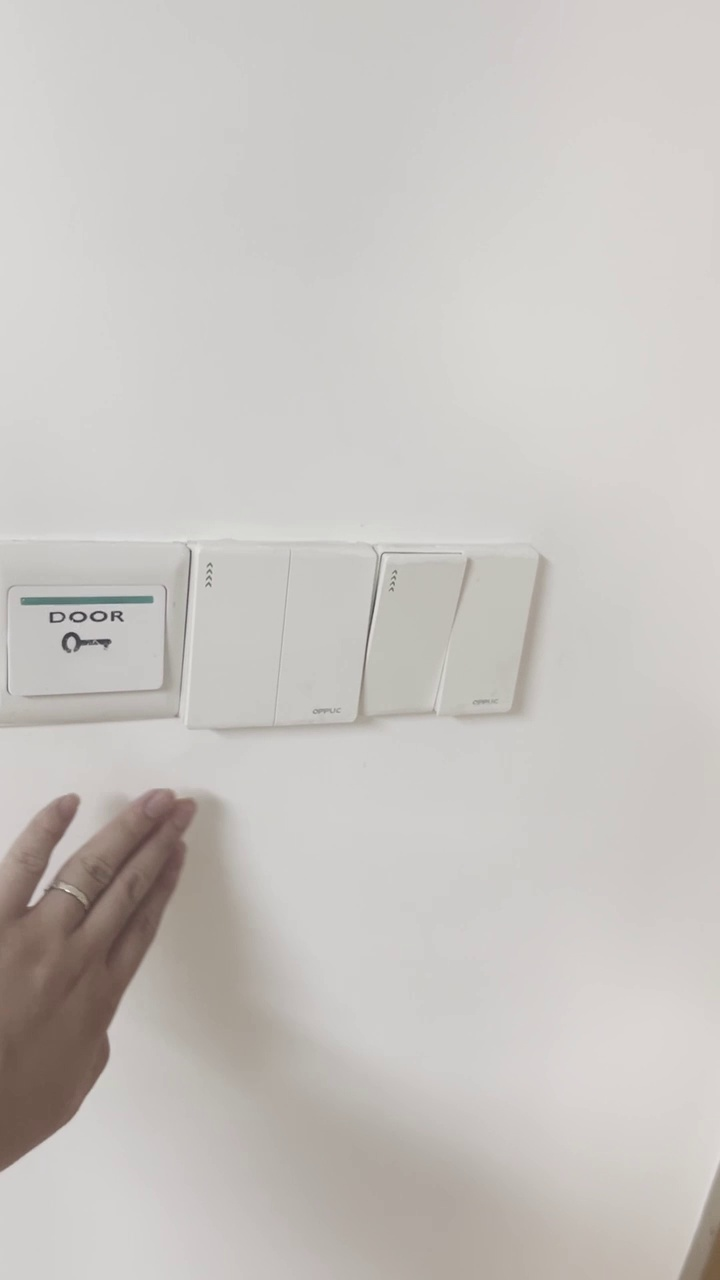button: (183, 535, 367, 731), (369, 543, 545, 722)
